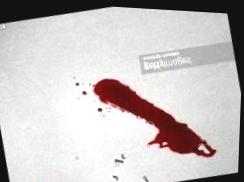Fire: (92, 77, 218, 155)
